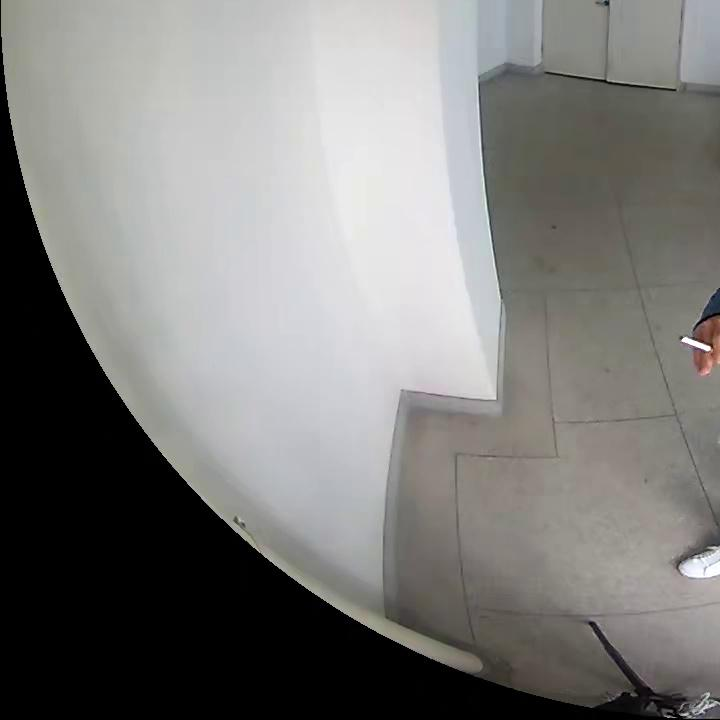handsmoke: (679, 323, 720, 376)
